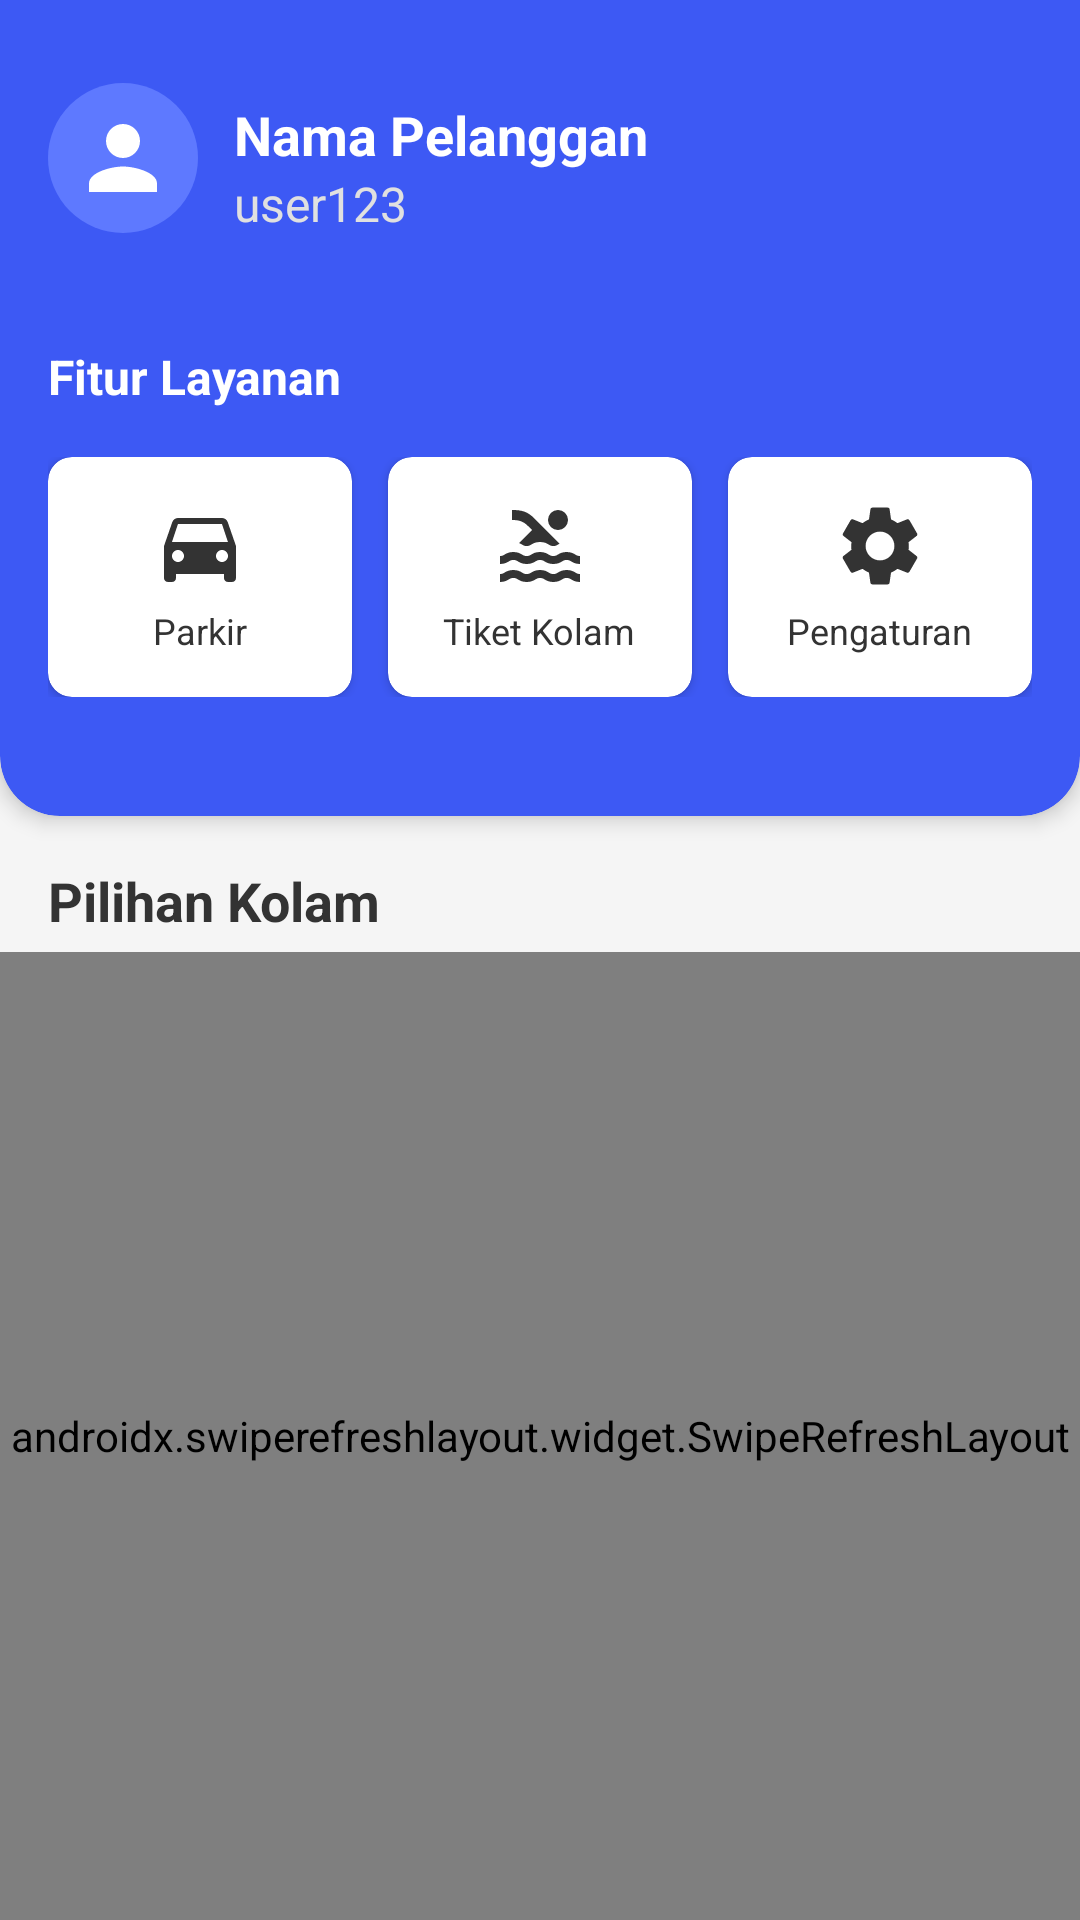

Icon click points for this 1080x1920 phone screenshot, format [x,y]:
car: [200,550]
person: [123,158]
swim: [540,546]
